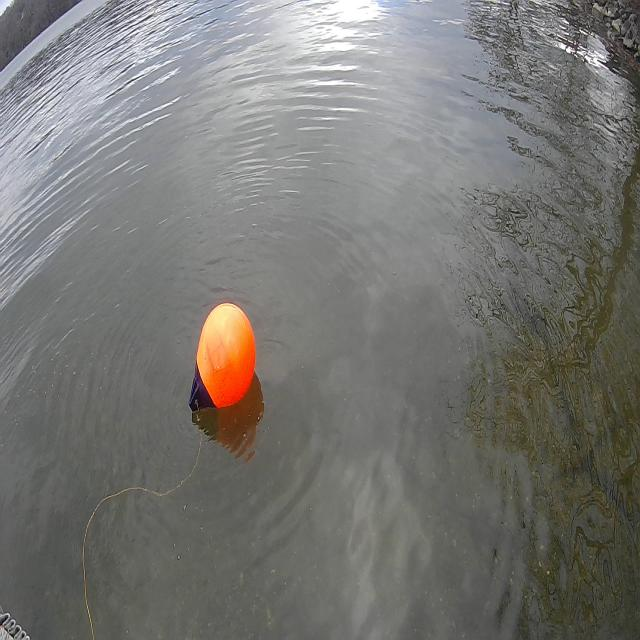Buoy: (180, 286, 262, 420)
